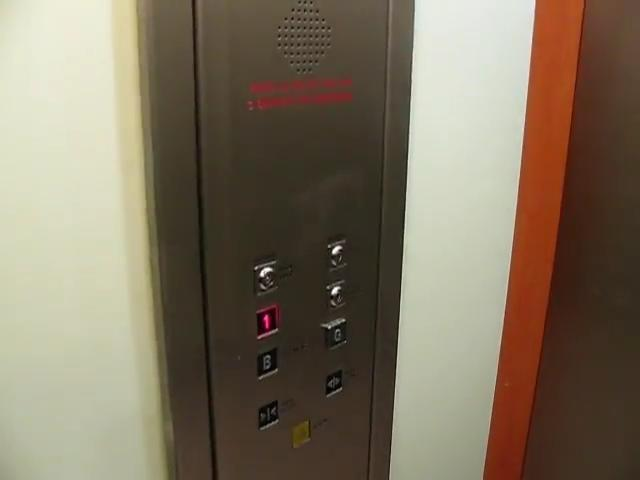1: (251, 303, 278, 338)
B: (253, 345, 278, 381)
G: (318, 316, 348, 349)
blur: (288, 419, 310, 448)
close: (254, 398, 280, 430)
keyhole: (251, 260, 277, 295), (325, 237, 349, 271), (326, 278, 347, 308)
open: (320, 368, 343, 398)
